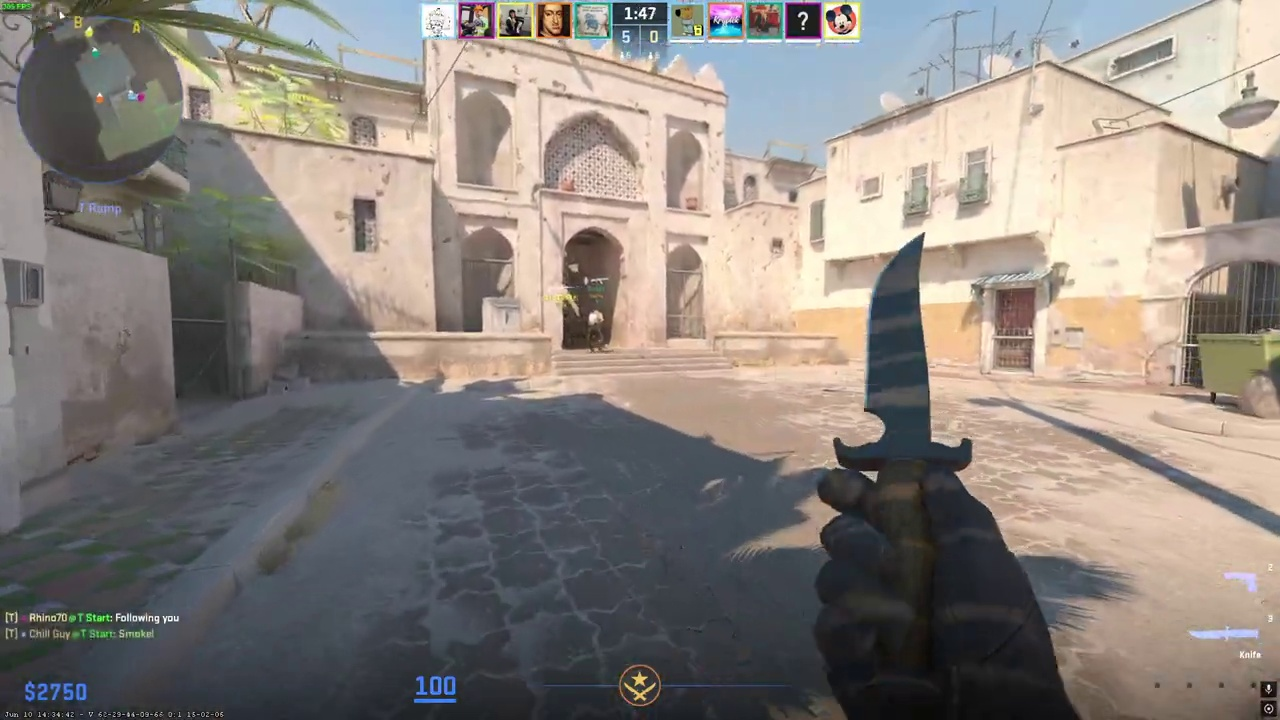Terrorist: (587, 307, 605, 352)
